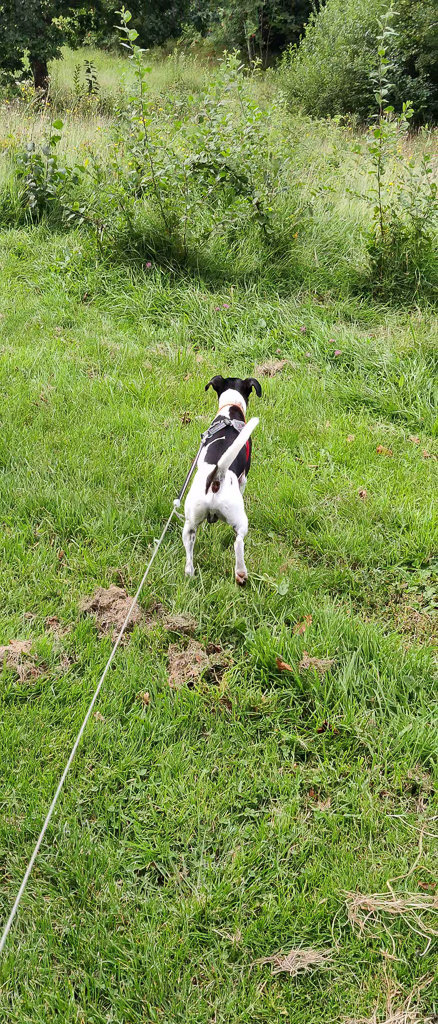Dog: (159, 364, 284, 601)
